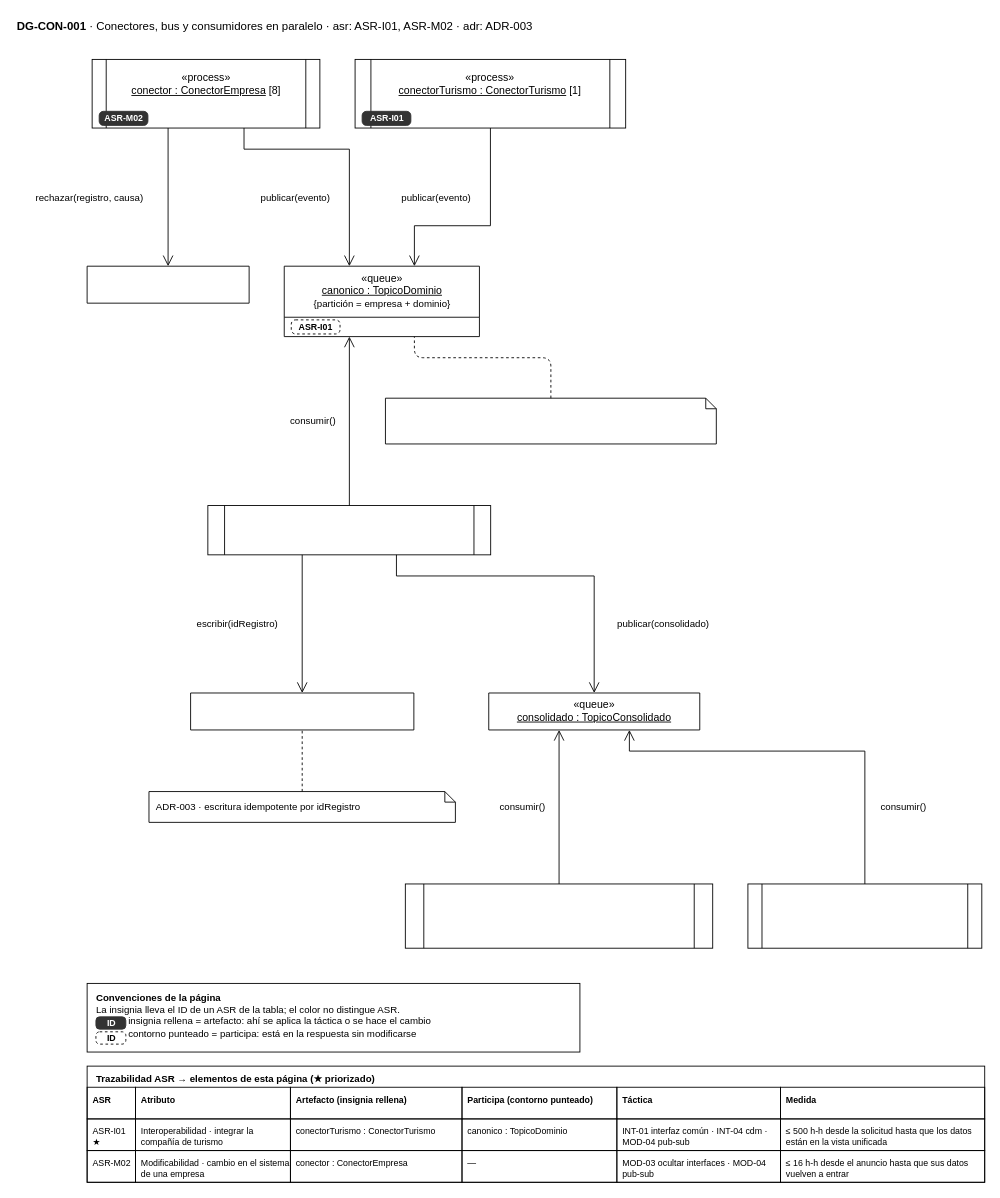
This 1000x1198 diagram has some shape labels left out. The shapes that lost their labels are listed below. From the top down, each one's centre as x and y in pixels, then its label:
At [167,284]: "«queue» cuarentena : Cuarentena".
At [550,420]: "ADR-003 · S-003a: el orden solo vale por empresa y dominio".
At [349,530]: "«thread» consumidor : MotorInterpretacion [1..*]".
At [302,711]: "vista : RepositorioVistaUnificada {guarded}".
At [558,915]: "«process» consolidacion : ConsolidacionFinanciera [1] «tactic» {id = INT-09}".
At [864,915]: "«process» ventaCruzada : VentaCruzada [1] «tactic» {id = INT-09}".
